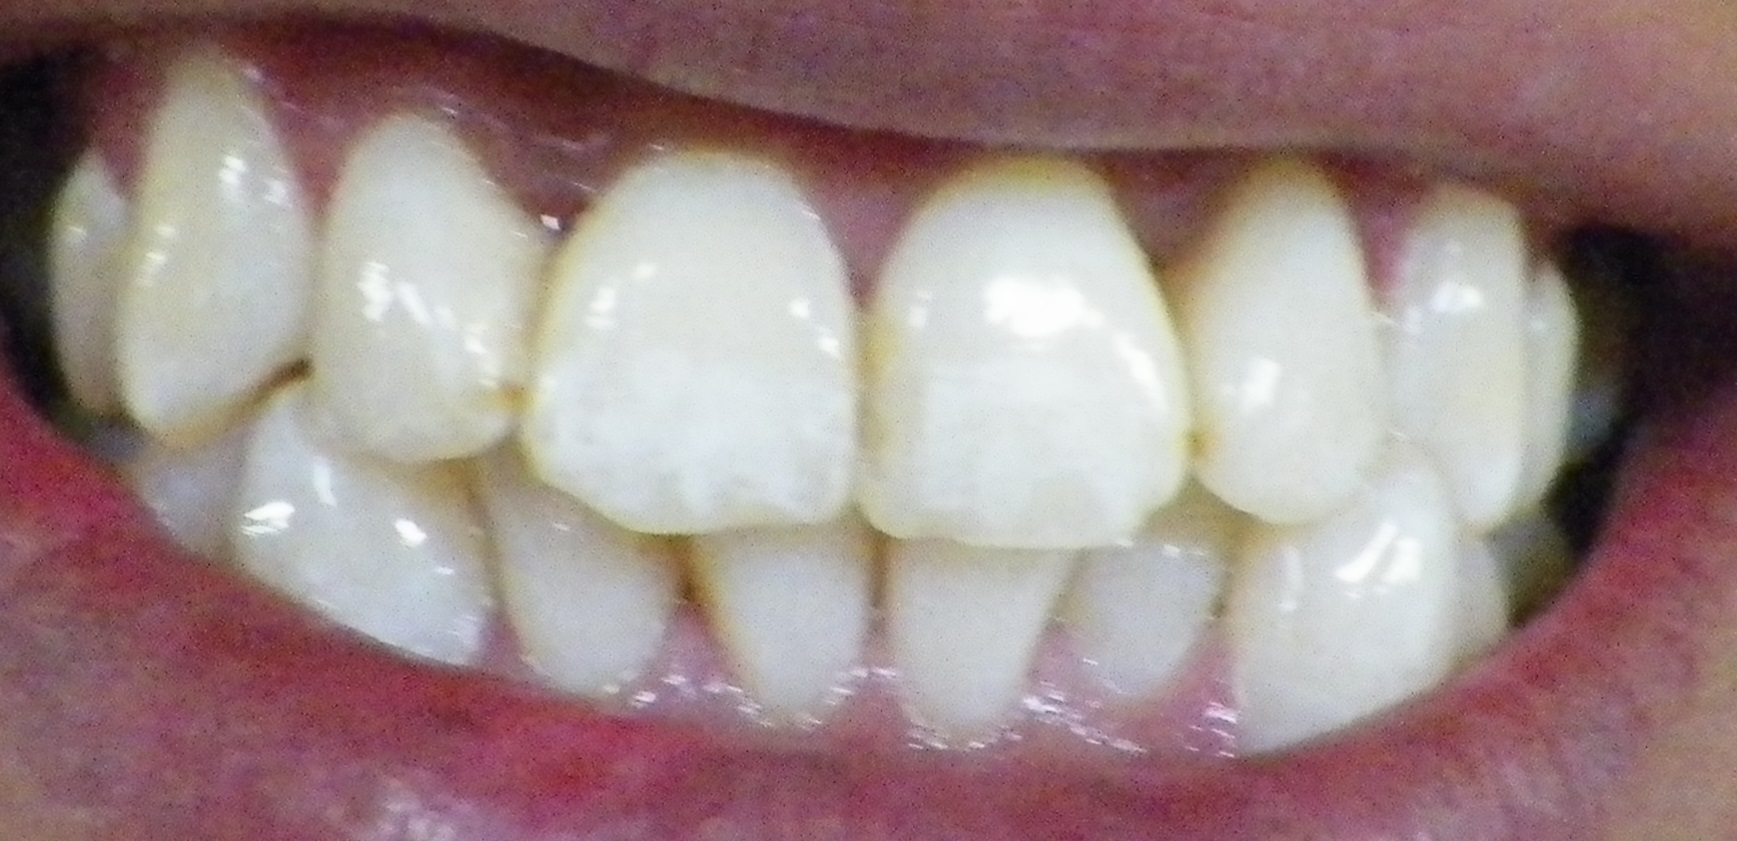boca: (21, 124, 1621, 740)
